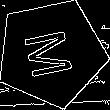M_E: (21, 25, 81, 81)
